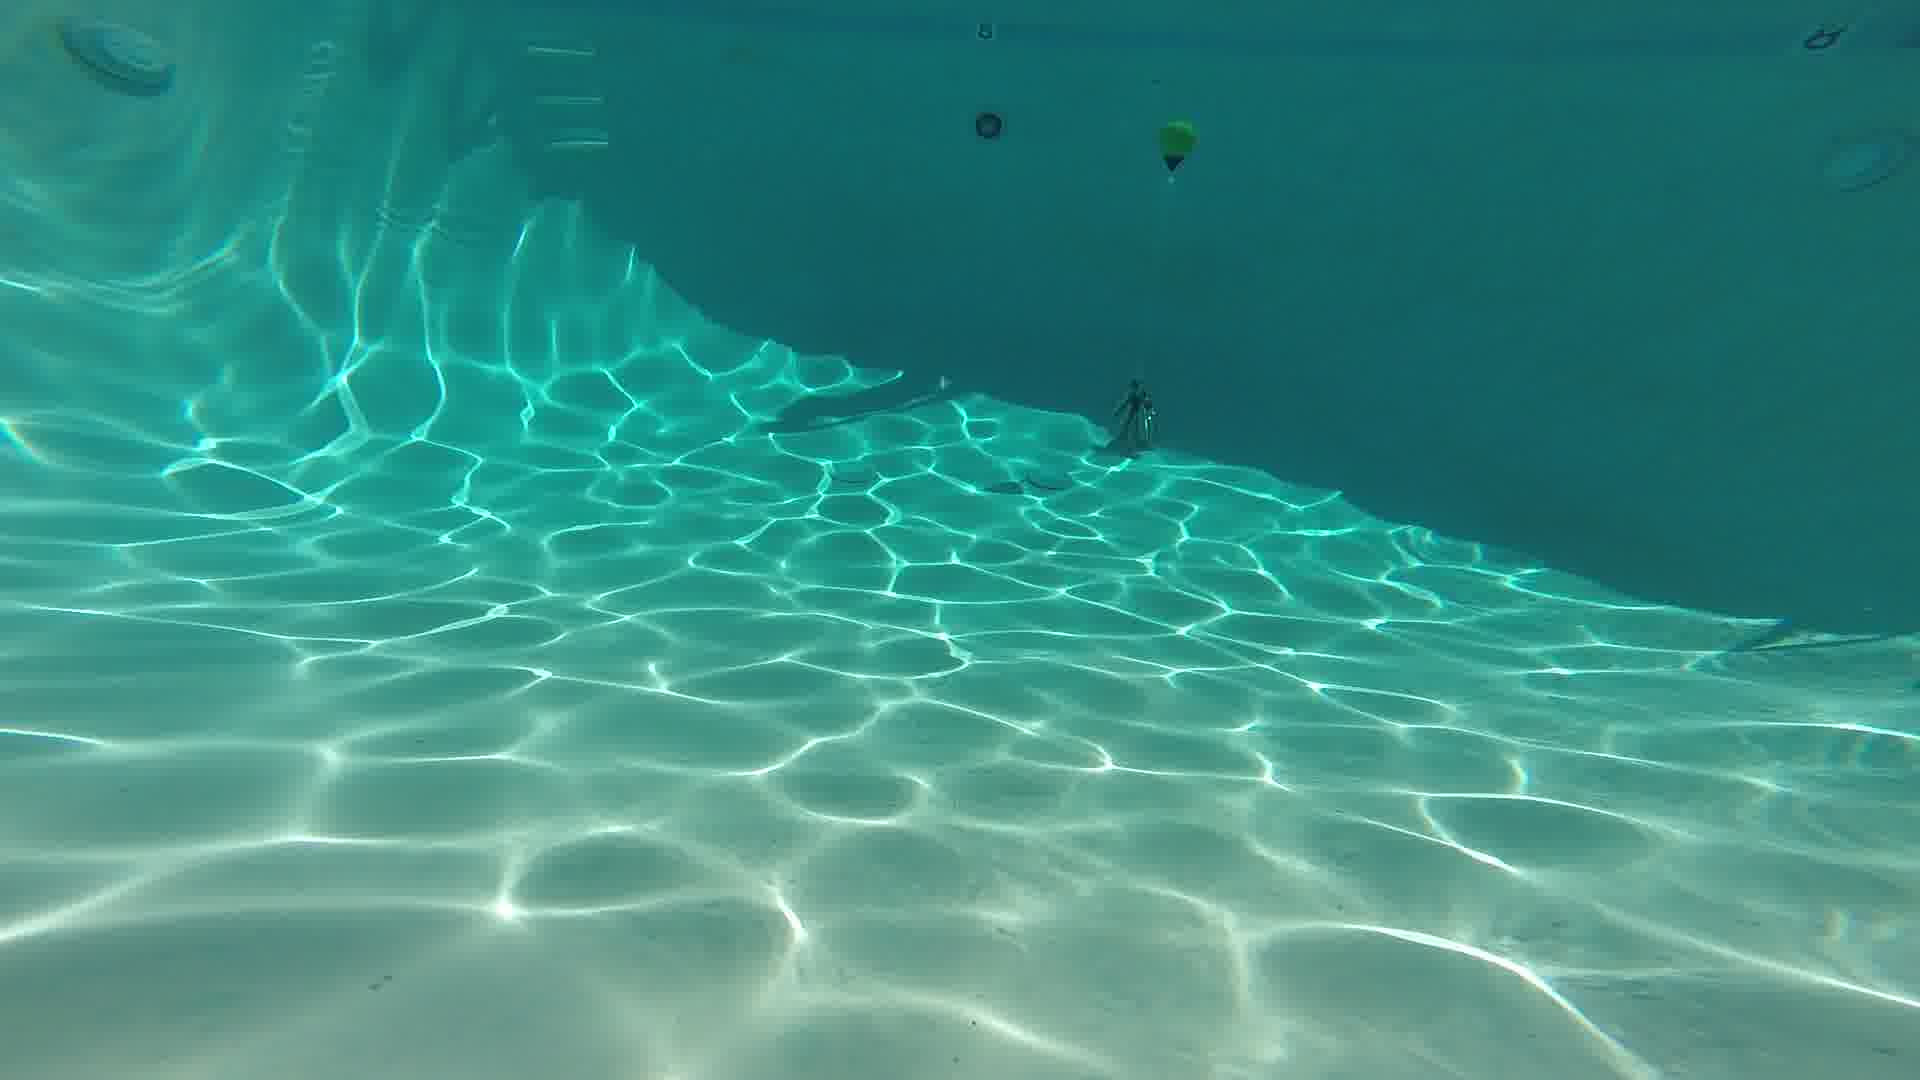yellow_buoy: (1160, 120, 1196, 174)
